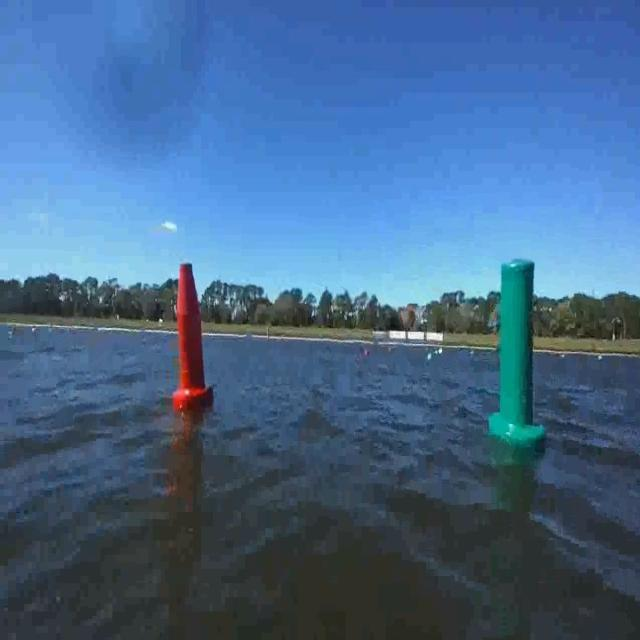green-column-buoy: (491, 260, 546, 448)
red-column-buoy: (175, 258, 215, 412)
